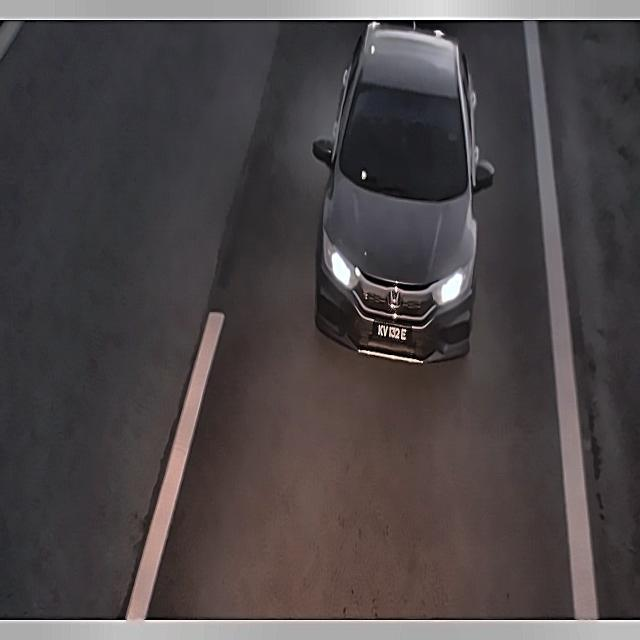car: (367, 311, 418, 357)
